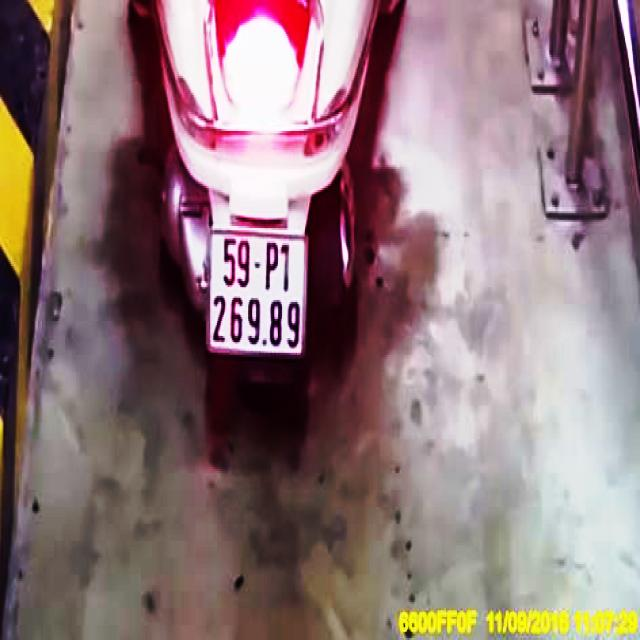license_plate: (207, 228, 309, 355)
